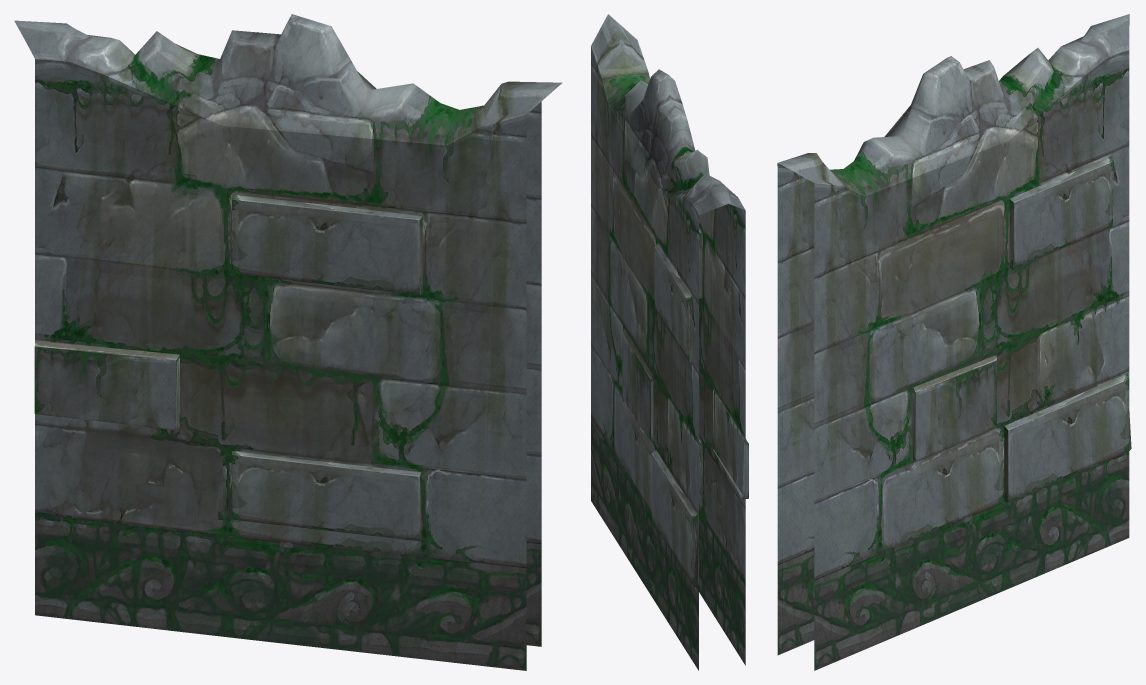
Rendered from stemple_wall_diagonal_01.fbx.
3 renders of one model, left to right at view 1: azimuth 30°, elevation 25°; view 2: azimuth 150°, elevation 25°; view 3: azimuth 270°, elevation 25°, orthographic. The views are drawn at different scales.
Parts seen in each view (by area): view 1: sunken_tileset/sunken_wall_straight01_mat; view 2: sunken_tileset/sunken_wall_straight01_mat; view 3: sunken_tileset/sunken_wall_straight01_mat.
Part boxes in pixels (bbox=[...]): sunken_tileset/sunken_wall_straight01_mat: bbox=[14, 14, 562, 670]; sunken_tileset/sunken_wall_straight01_mat: bbox=[591, 14, 748, 670]; sunken_tileset/sunken_wall_straight01_mat: bbox=[777, 14, 1131, 670].
Bounding box in the file's own units: 4.03 × 6.79 × 4.02.
